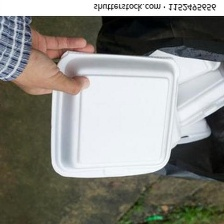foam_box: (44, 46, 185, 181), (169, 66, 224, 128), (143, 45, 224, 87), (167, 114, 213, 146)
